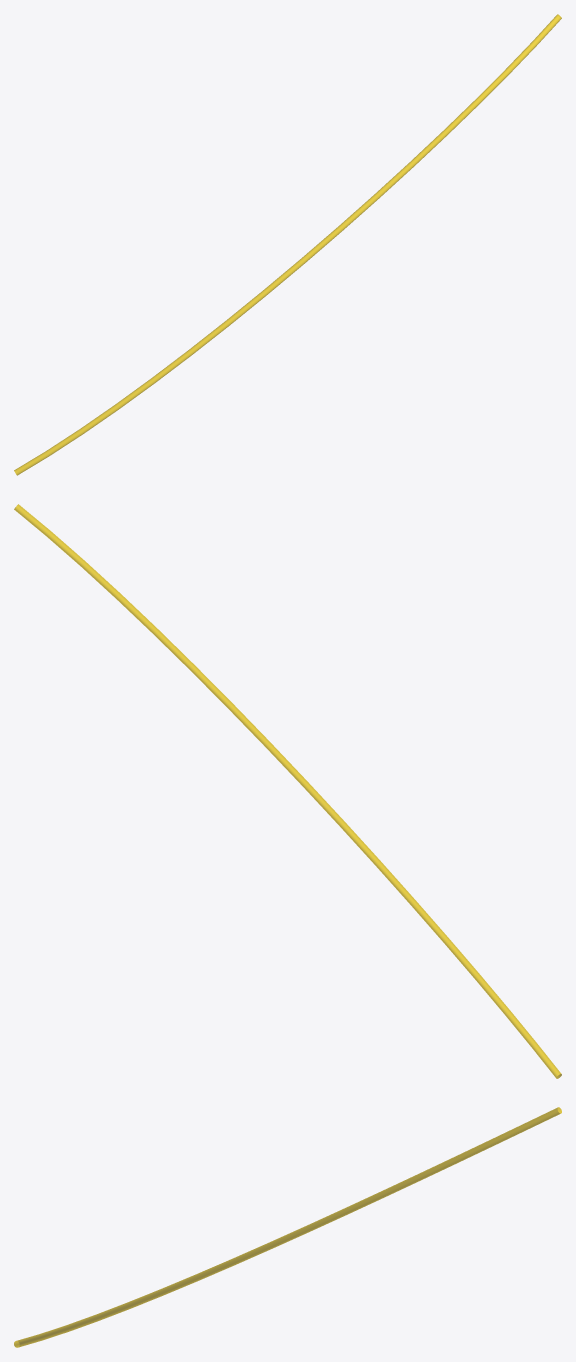
Rendered from Event_75125125_track_1.fbx.
3 renders of one model, top to bottom at view 1: azimuth 30°, elevation 25°; view 2: azimuth 150°, elevation 25°; view 3: azimuth 330°, elevation 25°, orthographic. The views are drawn at different scales.
Visible parts, largest first — view 1: Model; view 2: Model; view 3: Model.
Part boxes in pixels (x1,y1,x2,y2): Model: [14, 14, 561, 475]; Model: [14, 504, 561, 1078]; Model: [14, 1107, 561, 1347].
Bounding box in the file's own units: 3.83 × 2.56 × 0.5085.
